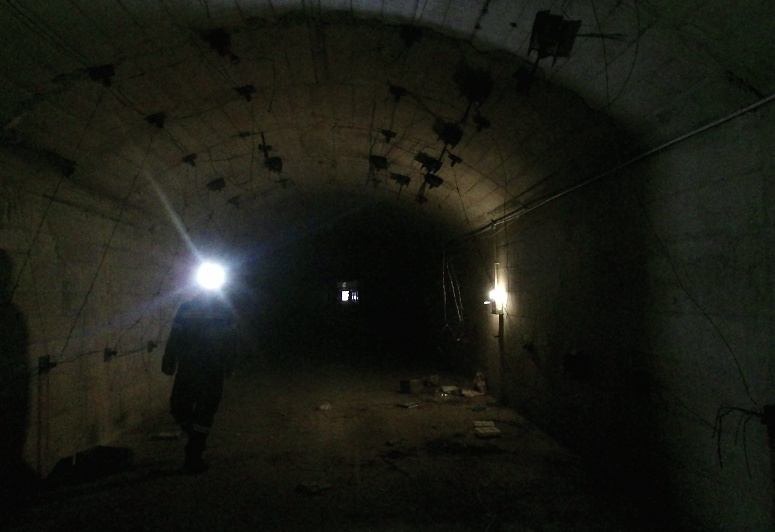person: (159, 271, 265, 472)
